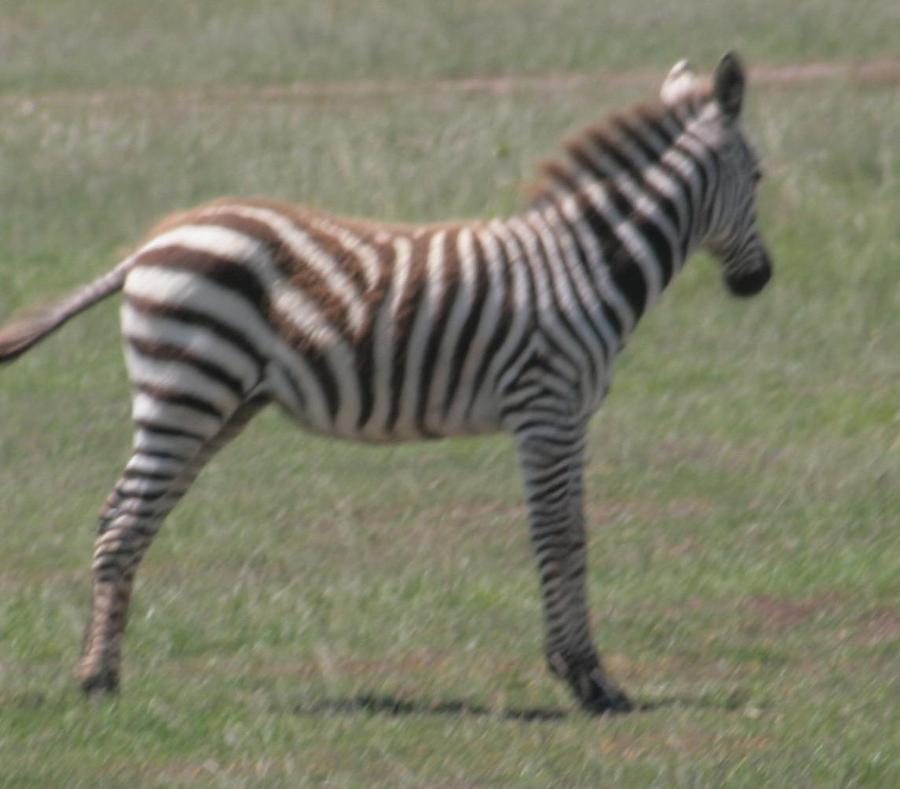zebra_plains: (65, 148, 651, 490)
